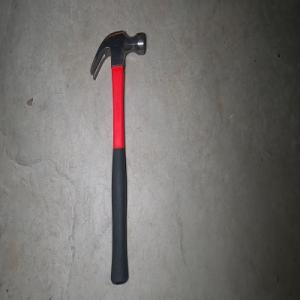Hammer: (89, 28, 146, 285)
